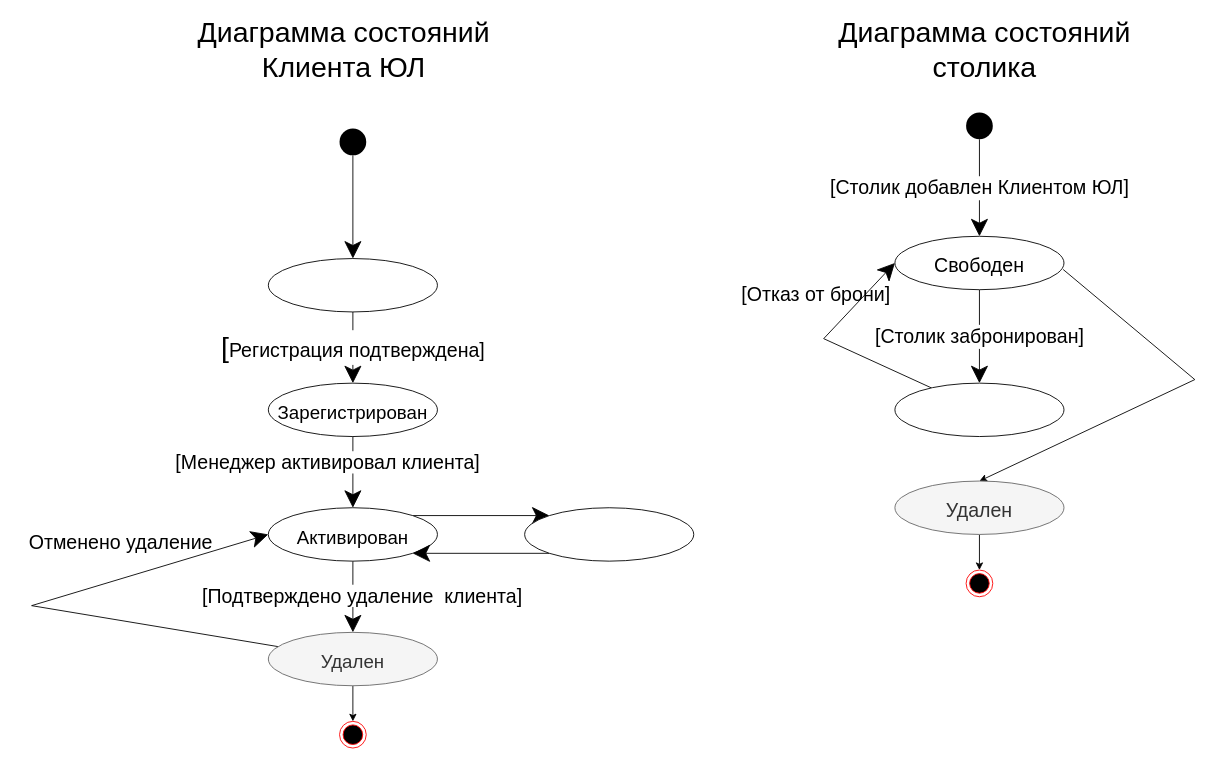
The diagram is 1218 pixels wide and 764 high, and some of its shapes have lost their labels. The shapes that lost their labels are listed below. From the top down, each one's centre as x and y in pixels, then its label:
At (352,285): "Новый".
At (979,409): "Забронирован".
At (609,534): "Блокирован".
